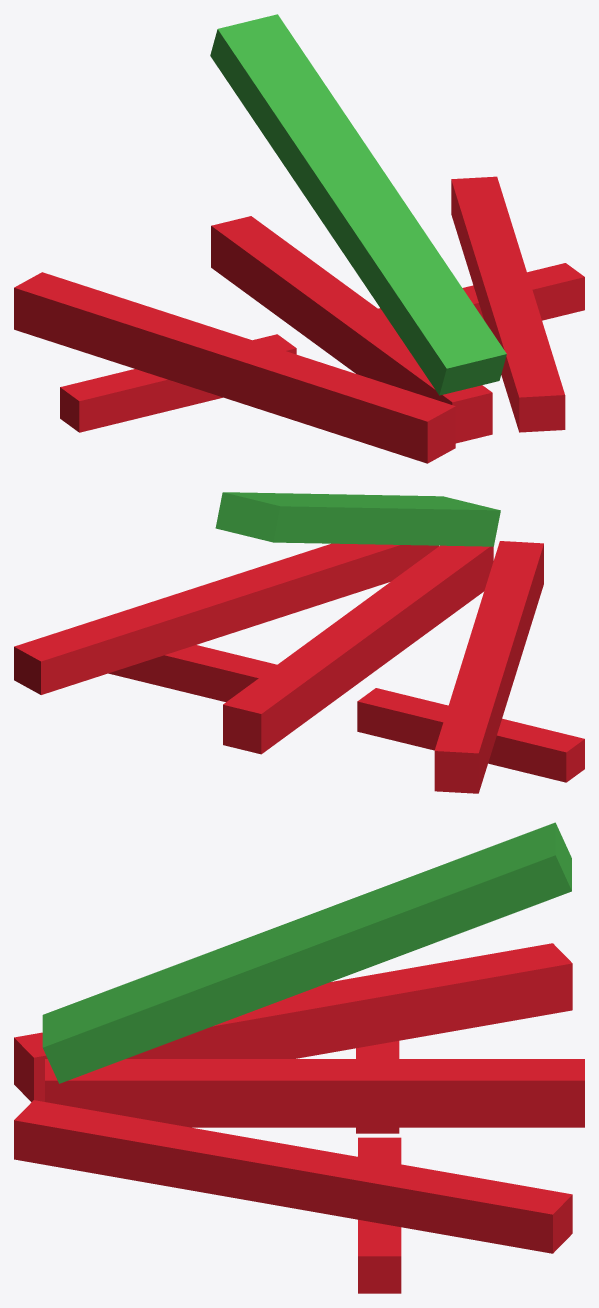
The model's file is tinker.obj.
3 renders of one model, top to bottom at view 1: azimuth 30°, elevation 25°; view 2: azimuth 150°, elevation 25°; view 3: azimuth 270°, elevation 25°, orthographic. The views are drawn at different scales.
Parts seen in each view (by area): view 1: group_0_15277357, group_0_4634441; view 2: group_0_15277357, group_0_4634441; view 3: group_0_15277357, group_0_4634441.
Boxes of the visible parts, <box> form: group_0_15277357: <box>14,176,584,463</box>; group_0_4634441: <box>210,14,506,395</box>; group_0_15277357: <box>14,541,584,793</box>; group_0_4634441: <box>215,492,500,546</box>; group_0_15277357: <box>14,943,584,1293</box>; group_0_4634441: <box>42,822,571,1083</box>.
Size of the model in its own units: 303 by 163 by 264.
